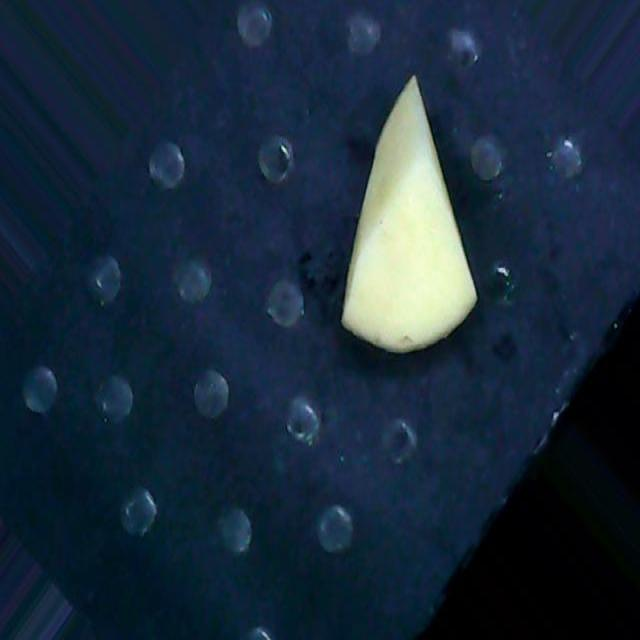-Kitchen waste - potato-: (340, 73, 479, 364)
